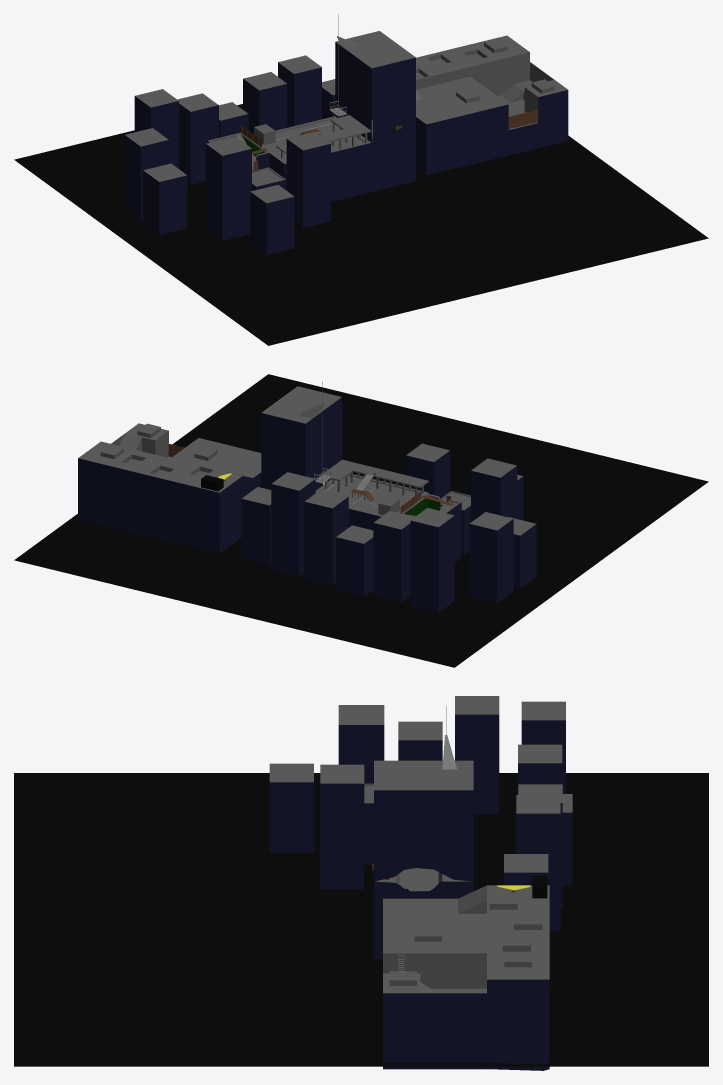
Rendered from first level8.fbx.
The picture shows the model from 3 angles, top to bottom: view 1: azimuth 30°, elevation 25°; view 2: azimuth 150°, elevation 25°; view 3: azimuth 270°, elevation 25°; orthographic projection. The views are drawn at different scales.
Parts seen in each view (by area): view 1: Plane, Cube.072, Cube.014, Cube, Cube.020, Cube.007, Cube.015, Cube.003, Cube.008, Cube.017, Cube.018, Cube.009 (+3 smaller); view 2: Plane, Cube.072, Cube.014, Cube.009, Cube.008, Cube.017, Cube.018, Cube.015, Cube, Cube.016, Cube.019, Cube.020 (+4 smaller); view 3: Plane, Cube.072, Cube.014, Cube.020, Cube.008, Cube.003, Cube.017, Cube, Cube.009, Cube.015, Cube.007, Cube.019 (+3 smaller).
Boxes of the visible parts, bbox=[...] form: Plane: bbox=[14, 104, 708, 345]; Cube.072: bbox=[416, 35, 568, 175]; Cube.014: bbox=[262, 31, 415, 201]; Cube: bbox=[205, 136, 251, 240]; Cube.020: bbox=[286, 132, 330, 227]; Cube.007: bbox=[143, 163, 187, 234]; Cube.015: bbox=[177, 93, 218, 184]; Cube.003: bbox=[250, 184, 294, 254]; Cube.008: bbox=[124, 128, 168, 219]; Cube.017: bbox=[278, 55, 321, 127]; Cube.018: bbox=[243, 72, 287, 133]; Cube.009: bbox=[134, 89, 178, 168]; Plane: bbox=[14, 374, 708, 667]; Cube.072: bbox=[78, 423, 261, 553]; Cube.014: bbox=[261, 386, 429, 530]; Cube.009: bbox=[410, 508, 454, 612]; Cube.008: bbox=[469, 512, 513, 603]; Cube.017: bbox=[271, 472, 315, 576]; Cube.018: bbox=[304, 490, 348, 585]; Cube.015: bbox=[373, 511, 414, 602]; Cube: bbox=[471, 458, 517, 522]; Cube.016: bbox=[336, 525, 373, 596]; Cube.019: bbox=[241, 487, 271, 565]; Cube.020: bbox=[406, 443, 450, 498]; Plane: bbox=[14, 773, 708, 1066]; Cube.072: bbox=[383, 885, 549, 1070]; Cube.014: bbox=[374, 760, 473, 959]; Cube.020: bbox=[320, 764, 364, 889]; Cube.008: bbox=[455, 696, 499, 814]; Cube.003: bbox=[269, 763, 313, 852]; Cube.017: bbox=[516, 795, 560, 931]; Cube: bbox=[338, 705, 384, 783]; Cube.009: bbox=[521, 701, 565, 793]; Cube.015: bbox=[518, 744, 562, 794]; Cube.007: bbox=[398, 721, 442, 760]; Cube.019: bbox=[504, 854, 548, 885].
Size of the model in its own units: 60279 by 24078 by 60279.
